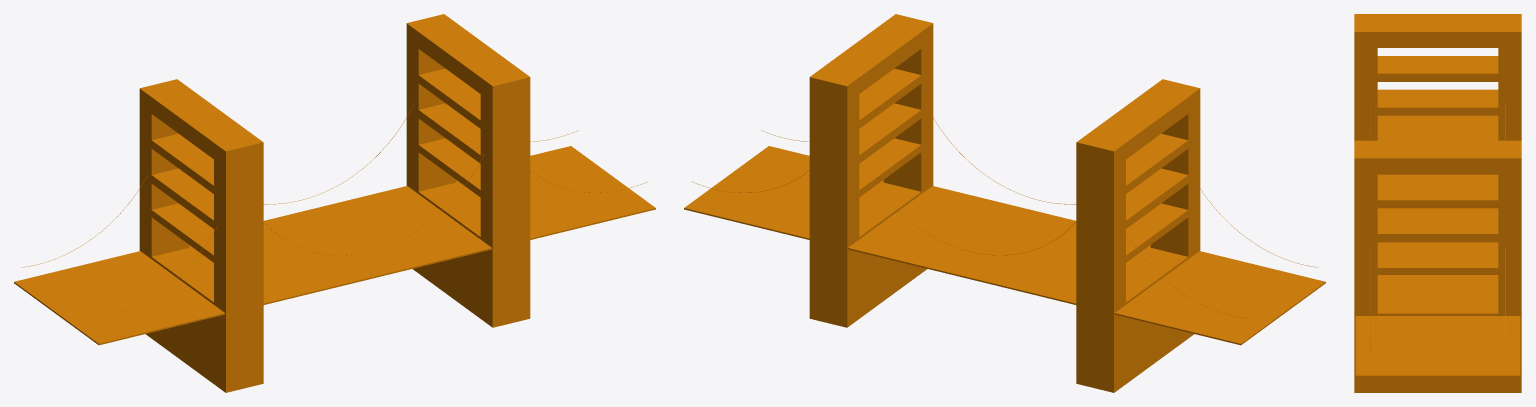
Rendered from Bridge.fbx.
3 views of the same model, side by side, from view 1: azimuth 30°, elevation 25°; view 2: azimuth 150°, elevation 25°; view 3: azimuth 270°, elevation 25° (orthographic). The views are drawn at different scales.
Parts seen in each view (by area): view 1: pCube1, pCube13, pCube12; view 2: pCube1, pCube13, pCube12; view 3: pCube13, pCube12, pCube1, pCylinder8.
Boxes of the visible parts, box(x1,y1,x2,y2) form: pCube1: box(14, 146, 655, 345); pCube13: box(406, 14, 530, 327); pCube12: box(139, 79, 263, 392); pCube1: box(684, 146, 1325, 345); pCube13: box(809, 14, 933, 327); pCube12: box(1076, 79, 1200, 392); pCube13: box(1354, 140, 1521, 392); pCube12: box(1354, 14, 1521, 182); pCube1: box(1355, 115, 1520, 377); pCylinder8: box(1370, 247, 1505, 355).
Bounding box in the file's own units: 922 × 382 × 247.
